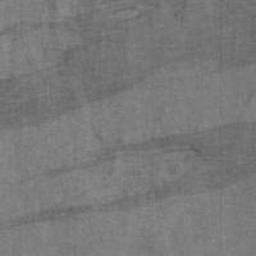Water spot: (0, 0, 255, 136), (0, 119, 256, 229)
